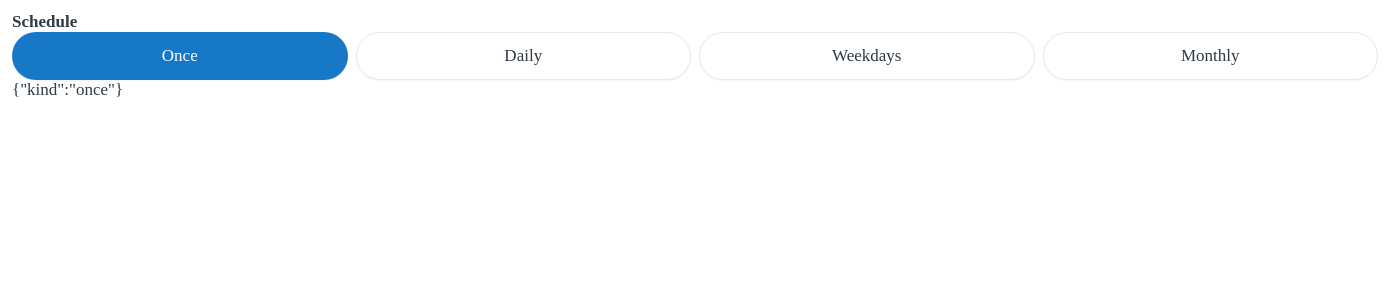
Test: BountyRecurrenceEditor › Monthly accepts calendar days 1 through 28
Step 1. Click the button "Monthly" → (1210, 56), box [1042,32,1378,80]
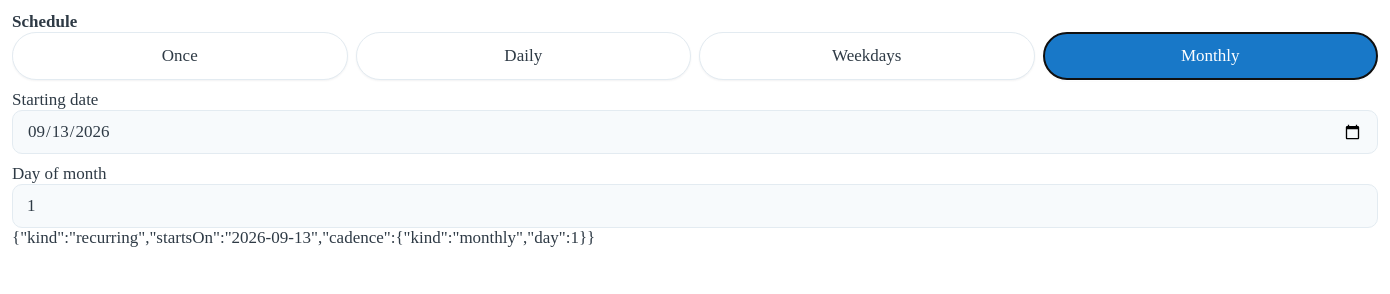
Result: the number field labelled "Day of month" holds "1"
Step 2. Replace the text in the number field labelled "Day of month" with "28" → (695, 206), box [12,184,1378,228]
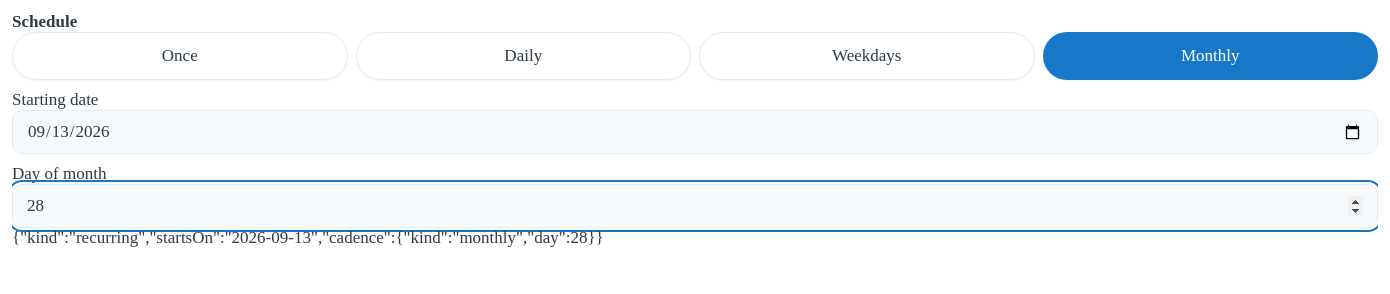
Step 3. Replace the text in the number field labelled "Day of month" with "29" → (695, 206), box [12,184,1378,228]
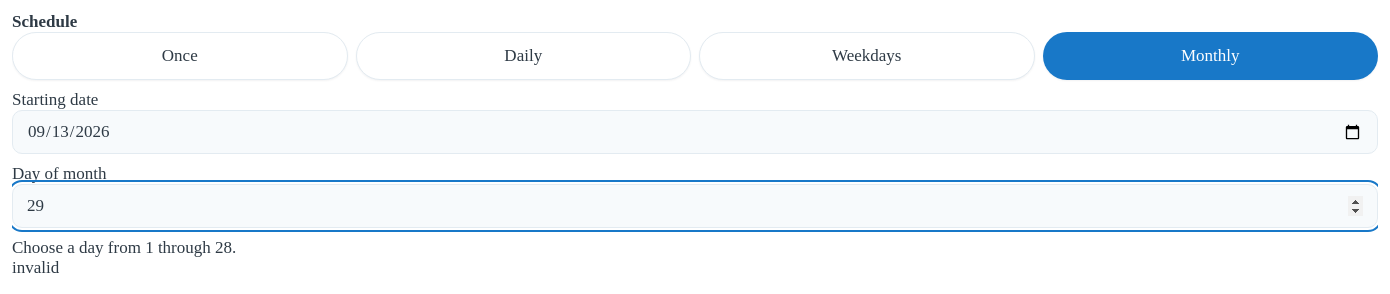
Result: the text named "Validated recurrence" reads "invalid" at [12,258,59,277]
